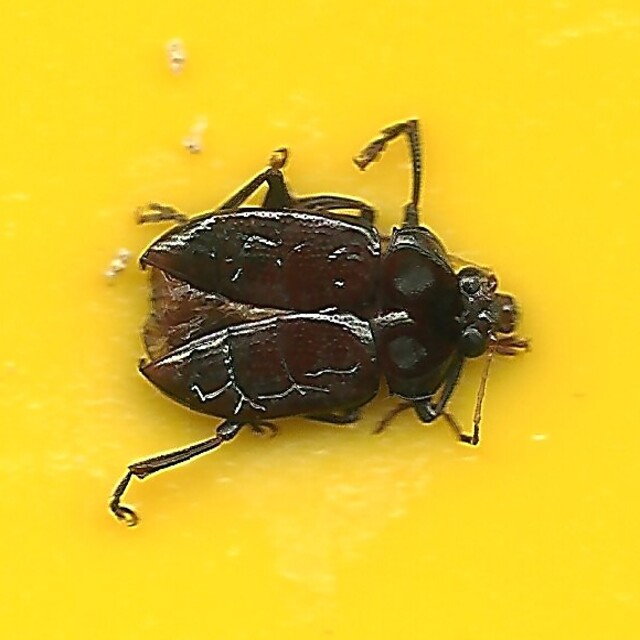Coleoptera: (110, 114, 530, 526)
